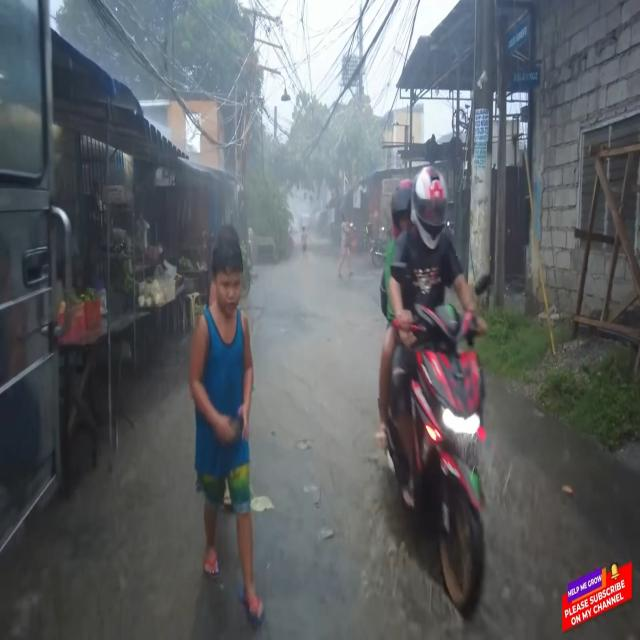full: (410, 157, 451, 255)
half: (389, 172, 412, 238)
